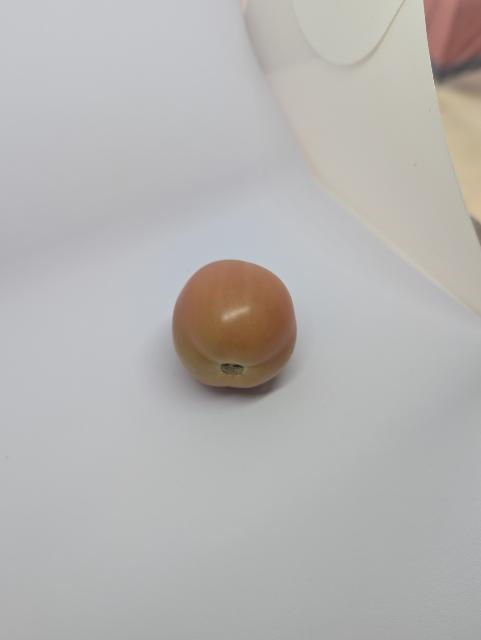turning: (168, 247, 311, 401)
